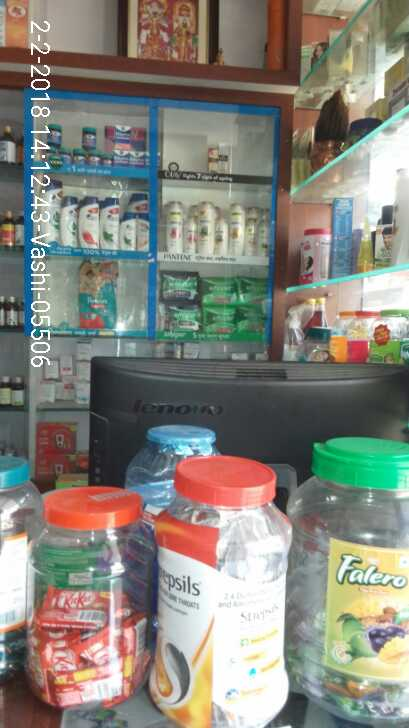beauty: (43, 173, 156, 254), (166, 203, 275, 256)
pharmacy: (34, 115, 156, 167), (198, 275, 274, 340), (75, 262, 127, 327), (160, 271, 201, 304)
